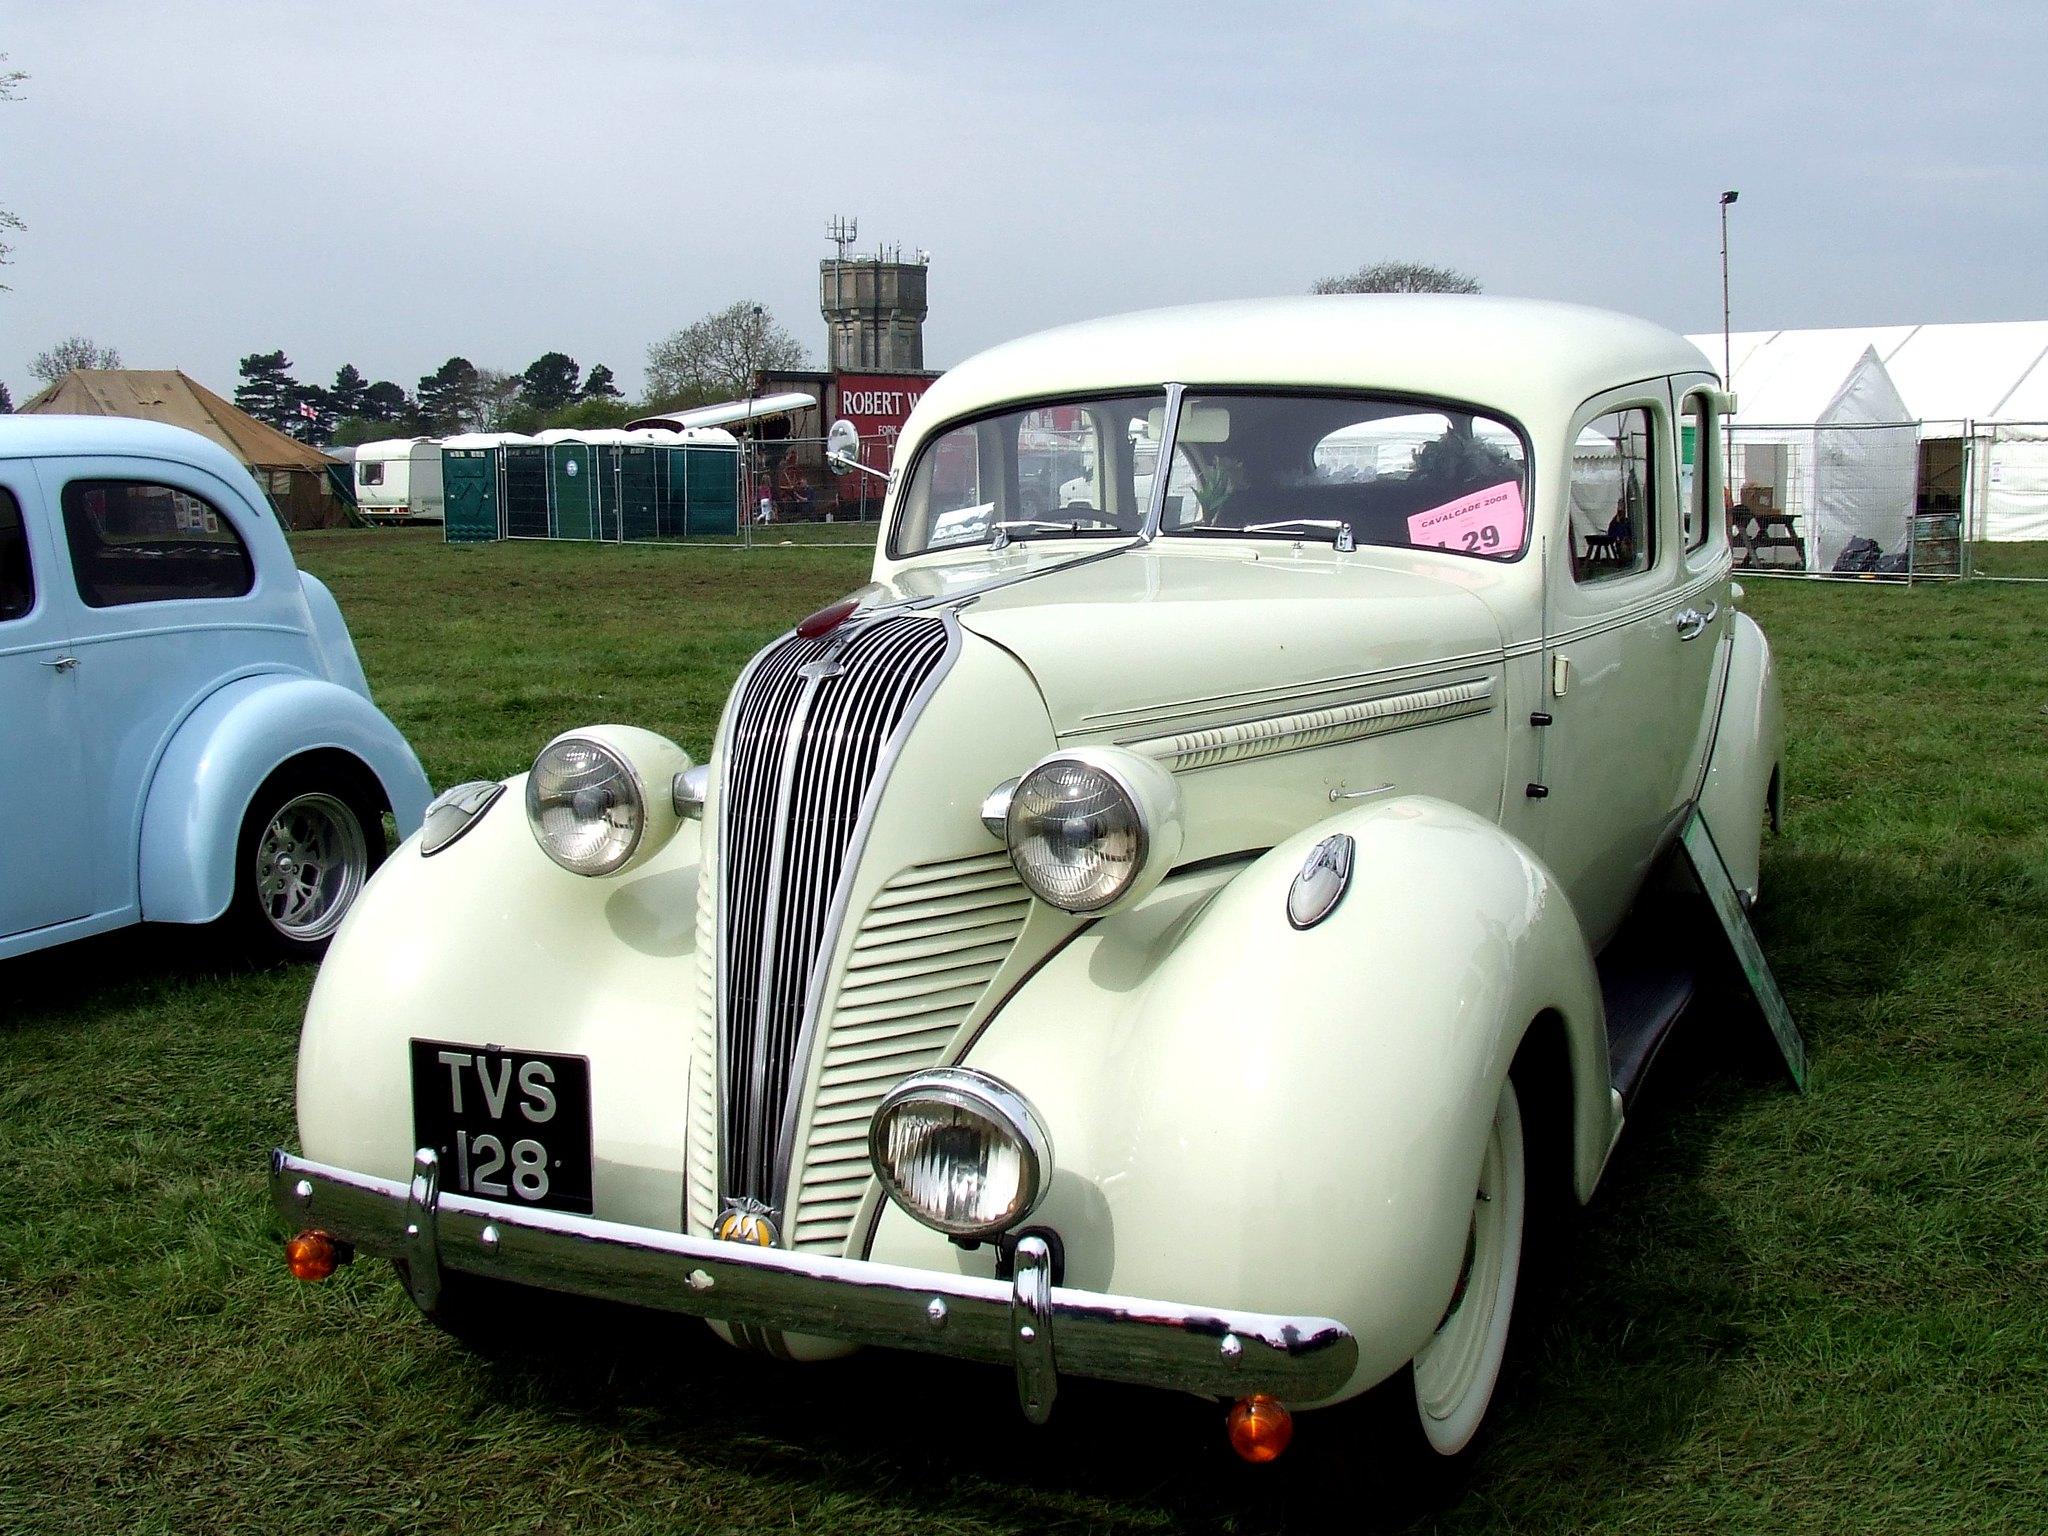car: (247, 303, 1821, 1470)
